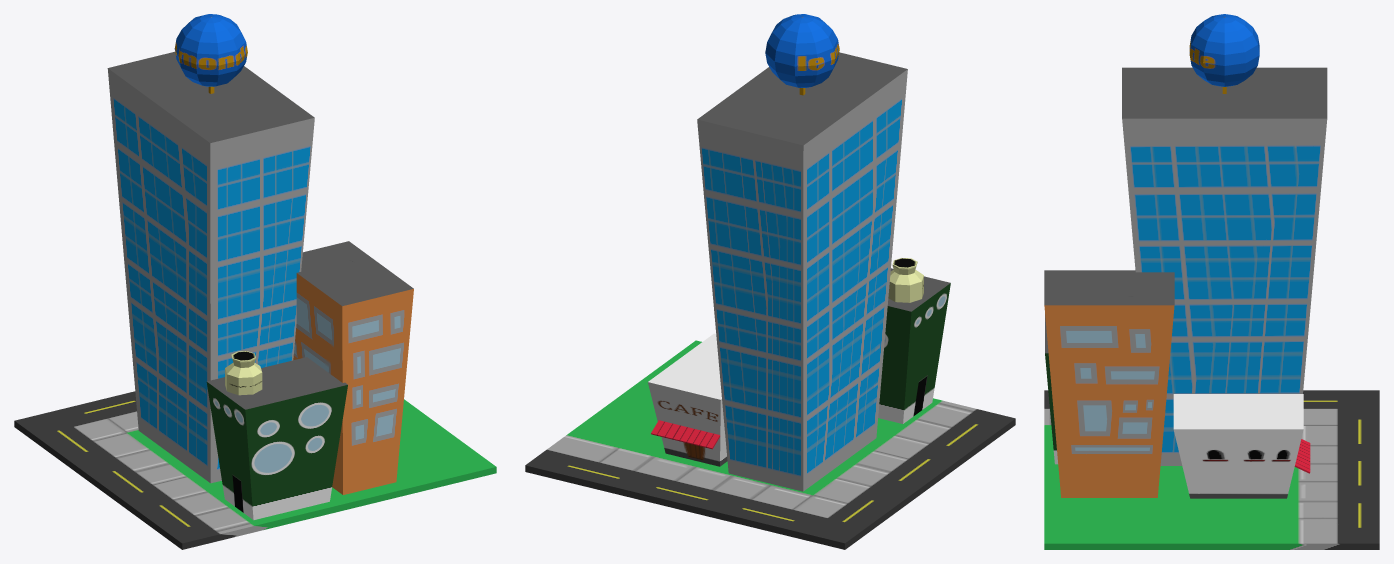
File: City.fbx
3 views of the same model, side by side, from view 1: azimuth 30°, elevation 25°; view 2: azimuth 150°, elevation 25°; view 3: azimuth 270°, elevation 25° (orthographic).
Parts seen in each view (by area): view 1: pCube8; view 2: pCube8; view 3: pCube8.
Boxes of the visible parts, left/top/right/bottom form: pCube8: left=14, top=14, right=496, bottom=549; pCube8: left=525, top=14, right=1015, bottom=549; pCube8: left=1044, top=14, right=1379, bottom=549.
Size of the model in its own units: 9.86 by 13.12 by 9.12.
